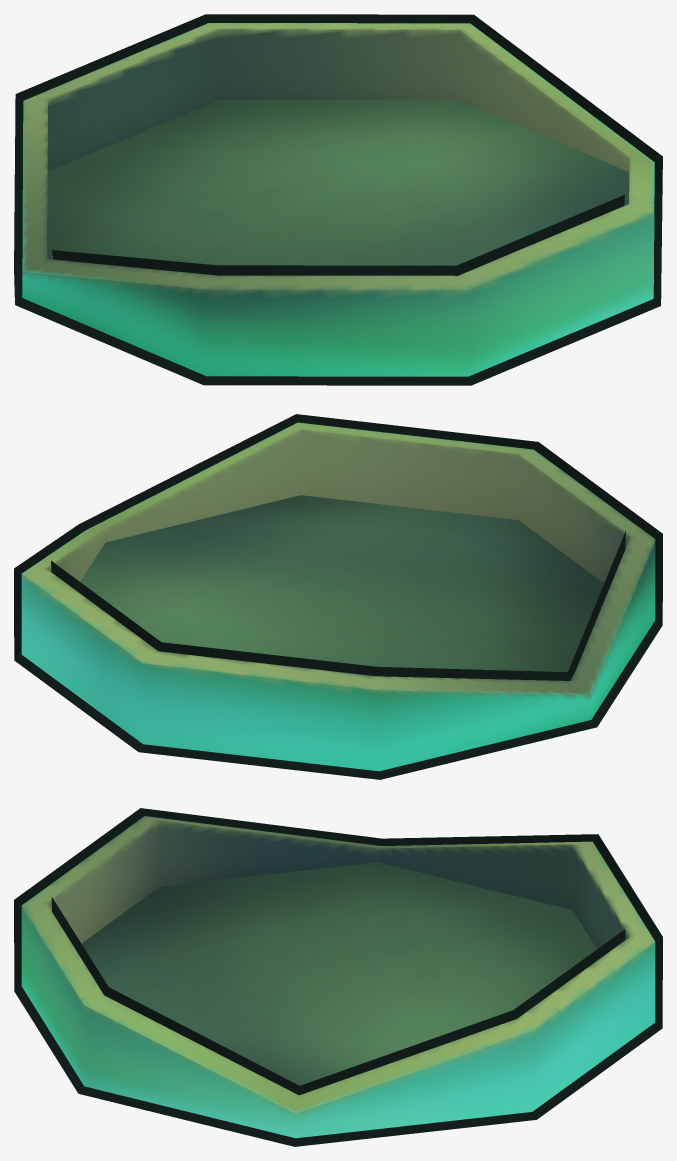
The model's file is Lily00.gltf.
3 renders of one model, top to bottom at view 1: azimuth 30°, elevation 25°; view 2: azimuth 150°, elevation 25°; view 3: azimuth 270°, elevation 25°, orthographic. The views are drawn at different scales.
Visible parts, largest first — view 1: Circle.032_TT_checker_4_0, Circle.032_Line art Green _0; view 2: Circle.032_TT_checker_4_0, Circle.032_Line art Green _0; view 3: Circle.032_TT_checker_4_0, Circle.032_Line art Green _0.
Part boxes in pixels (x1,y1,x2,y2): Circle.032_TT_checker_4_0: (22,23,654,376); Circle.032_Line art Green _0: (14,14,662,385); Circle.032_TT_checker_4_0: (21,422,655,771); Circle.032_Line art Green _0: (14,414,662,779); Circle.032_TT_checker_4_0: (21,816,655,1138); Circle.032_Line art Green _0: (14,808,662,1146).
Bounding box in the file's own units: 1.4 × 0.2321 × 1.4.
Materials: 2 (1 with a texture image).
